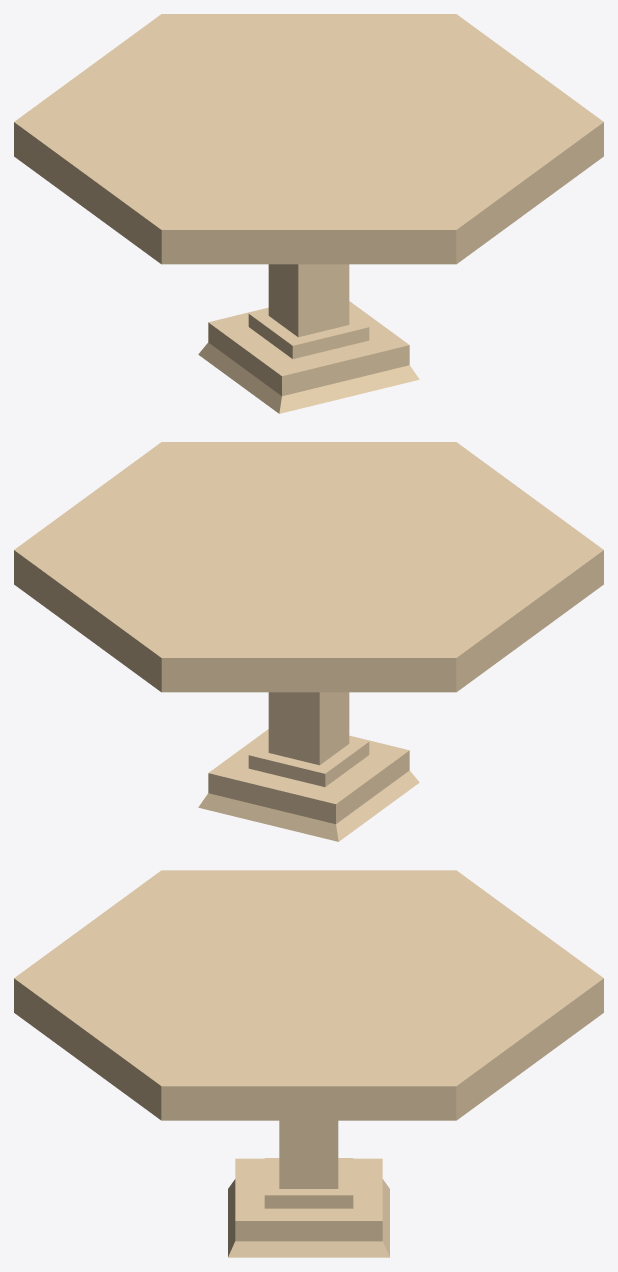
Rendered from tableRound.glb.
3 views of the same model, one above another, from view 1: azimuth 30°, elevation 25°; view 2: azimuth 150°, elevation 25°; view 3: azimuth 270°, elevation 25° (orthographic).
Parts seen in each view (by area): view 1: tableRound(Clone); view 2: tableRound(Clone); view 3: tableRound(Clone).
Boxes of the visible parts, left/top/right/bottom form: tableRound(Clone): left=14, top=14, right=603, bottom=413; tableRound(Clone): left=14, top=442, right=603, bottom=841; tableRound(Clone): left=14, top=870, right=603, bottom=1257.
Size of the model in its own units: 0.6928 by 0.3667 by 0.8.
